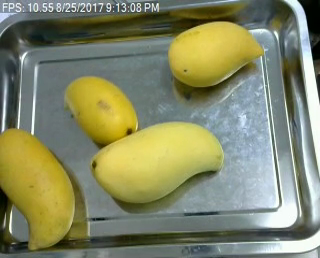Mango: (87, 119, 226, 209), (0, 124, 81, 250), (165, 19, 263, 92), (64, 74, 137, 144)
